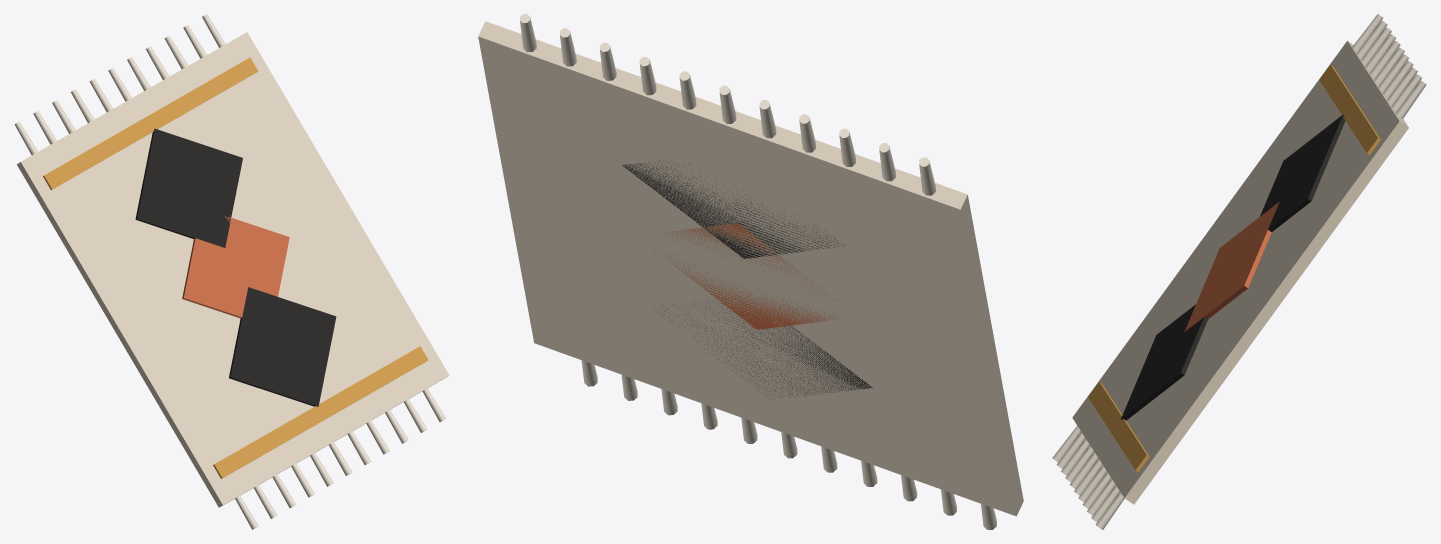
The model's file is handwoven_rug.glb.
3 renders of one model, left to right at view 1: azimuth 30°, elevation 25°; view 2: azimuth 150°, elevation 25°; view 3: azimuth 270°, elevation 25°, orthographic. The views are drawn at different scales.
Bounding box in the file's own units: 1.89 × 2.03 × 1.56.
